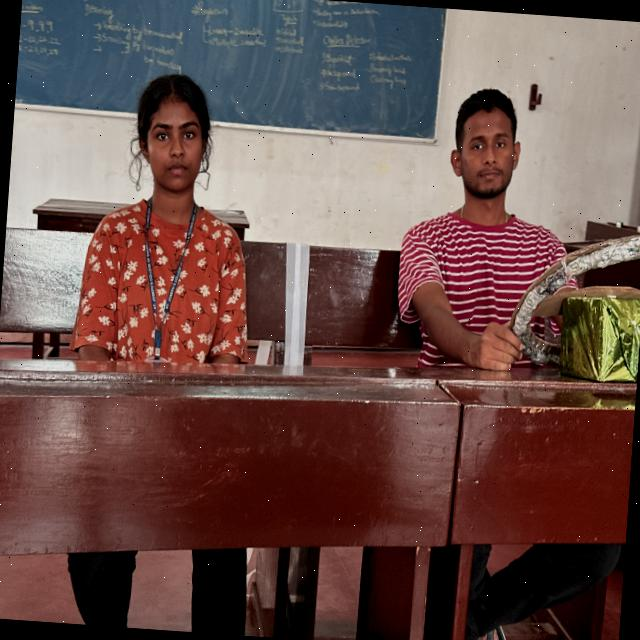no-seatbelt: (72, 195, 255, 370), (396, 206, 580, 359)
